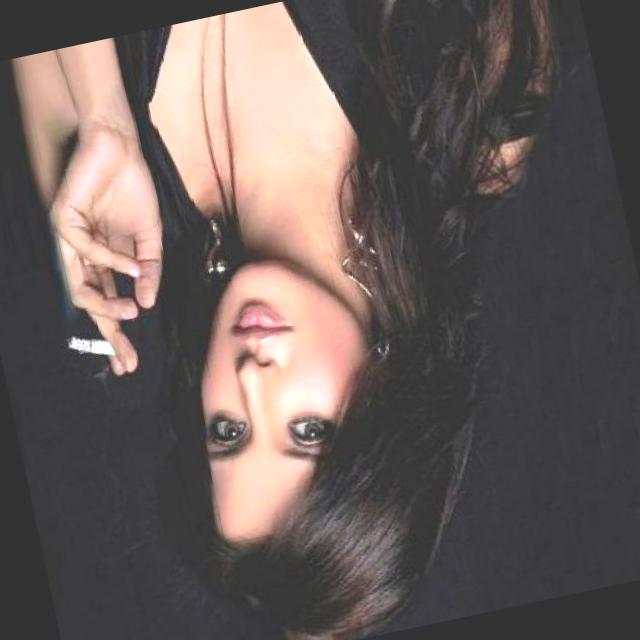smoke: (62, 323, 122, 367)
